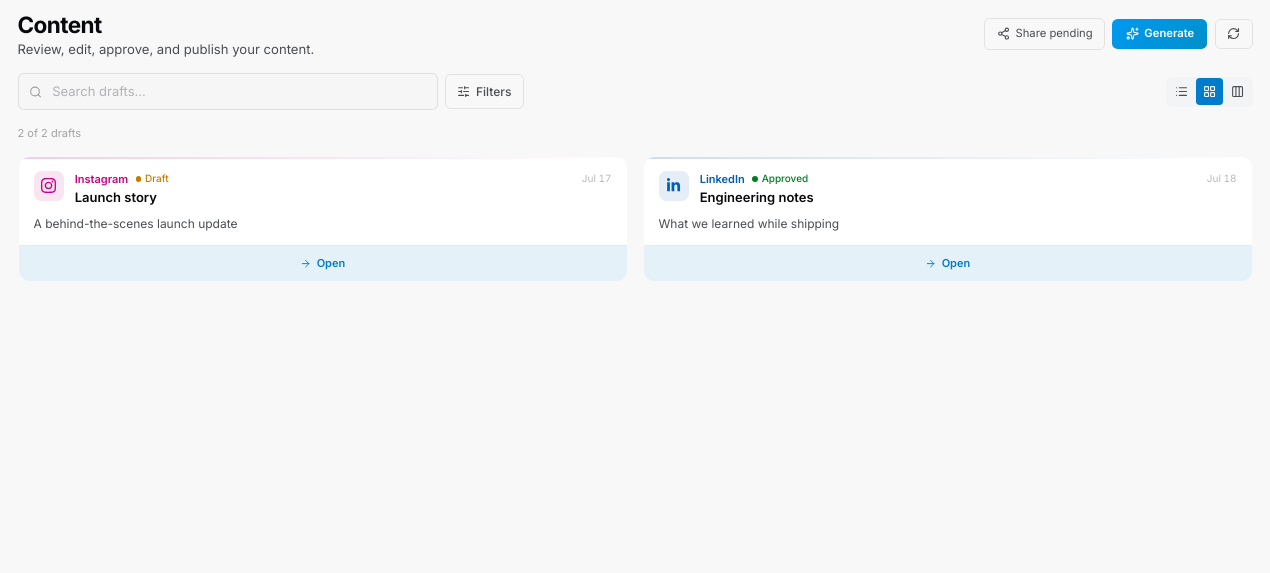
Test case: DraftsPage › loads drafts over HTTP and filters them through accessible controls
Expected: the heading "Launch story" is shown, left=75, top=189, right=157, bottom=205
Expected: the heading "Engineering notes" is shown, left=700, top=189, right=814, bottom=205
Type "engineering" into the search field labelled "Search drafts" at (228, 92), box left=18, top=73, right=438, bottom=110
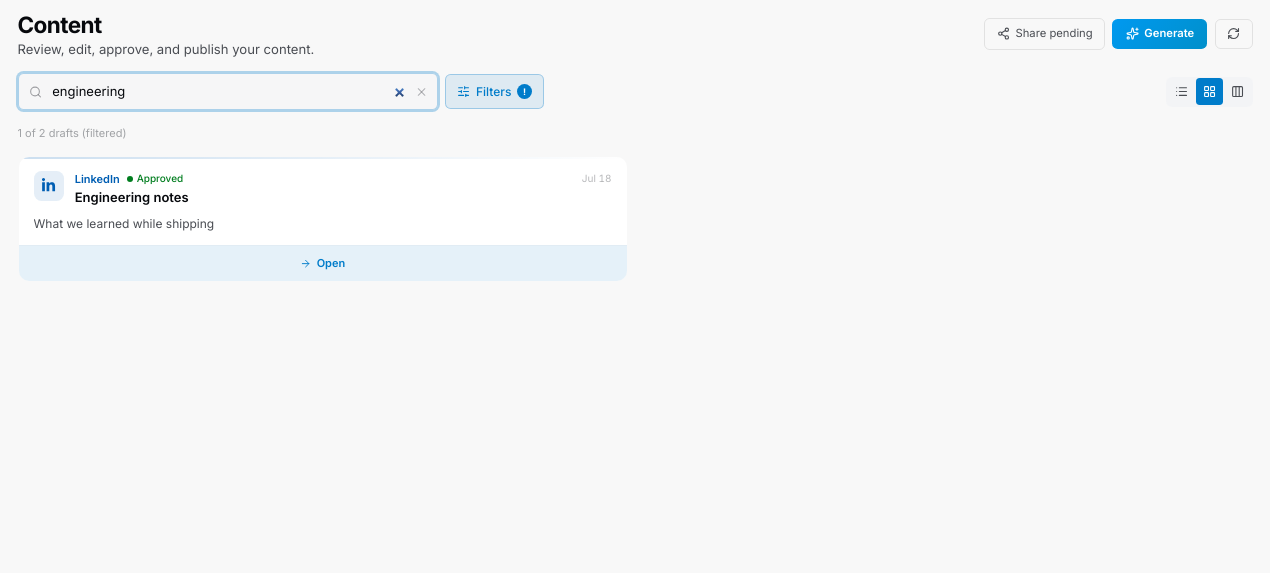
Expected: the heading "Engineering notes" is shown, left=75, top=189, right=189, bottom=205
Expected: the heading "Launch story" is gone
Click the button named "Clear draft search" at (422, 91), box left=415, top=85, right=428, bottom=98
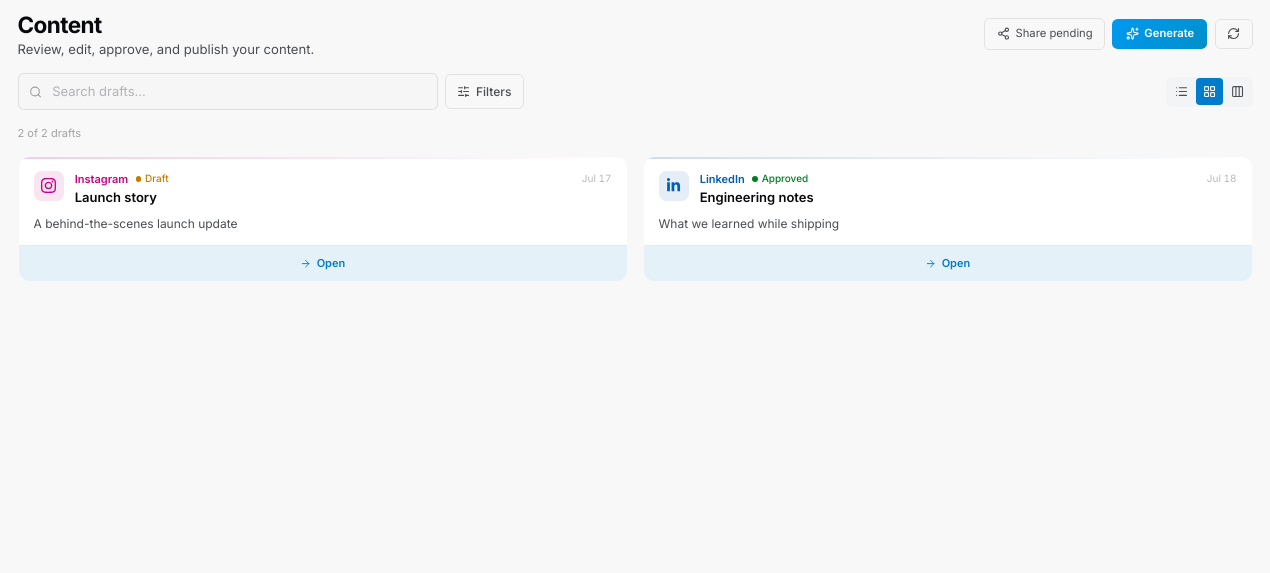
Expected: the heading "Launch story" is shown, left=75, top=189, right=157, bottom=205
Click the button "Filters" at (484, 92), box left=445, top=74, right=524, bottom=109
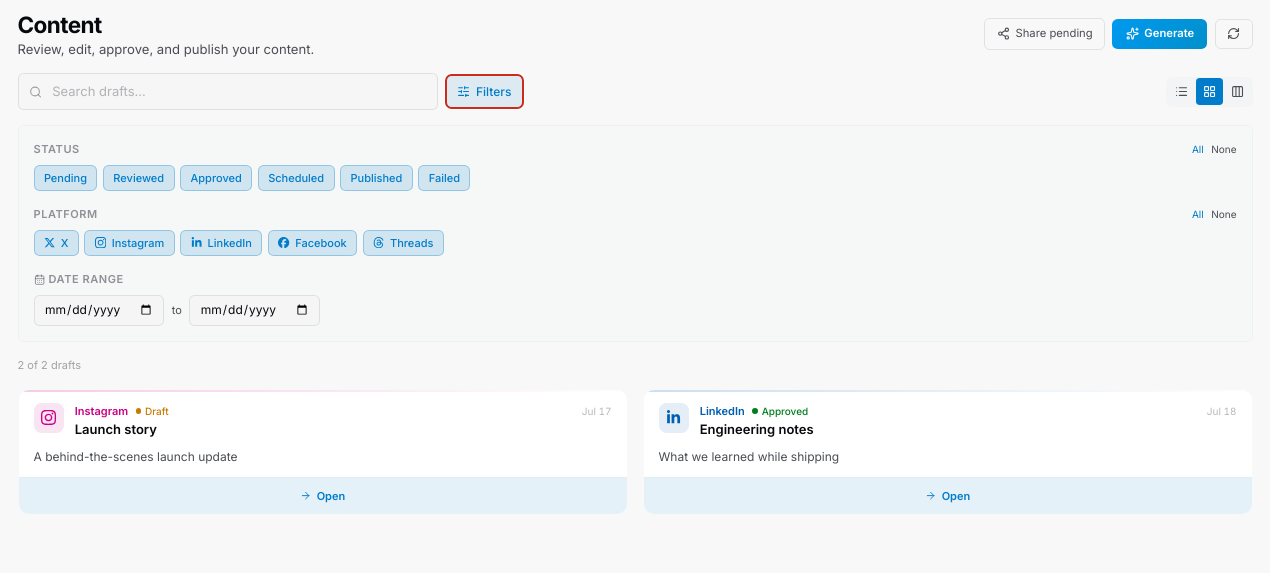
Click the button "Approved" at (216, 178), box left=180, top=165, right=252, bottom=191
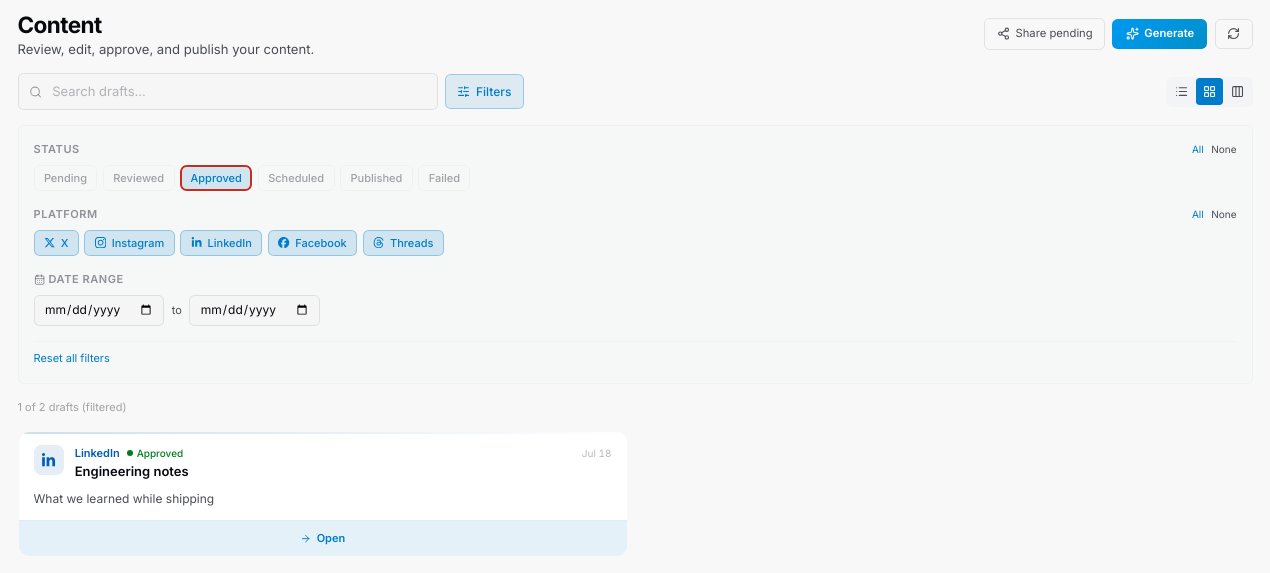
Expected: the heading "Engineering notes" is shown, left=75, top=463, right=189, bottom=479
Expected: the heading "Launch story" is gone
Click the button "Reset all filters" at (72, 358), box left=34, top=350, right=110, bottom=366
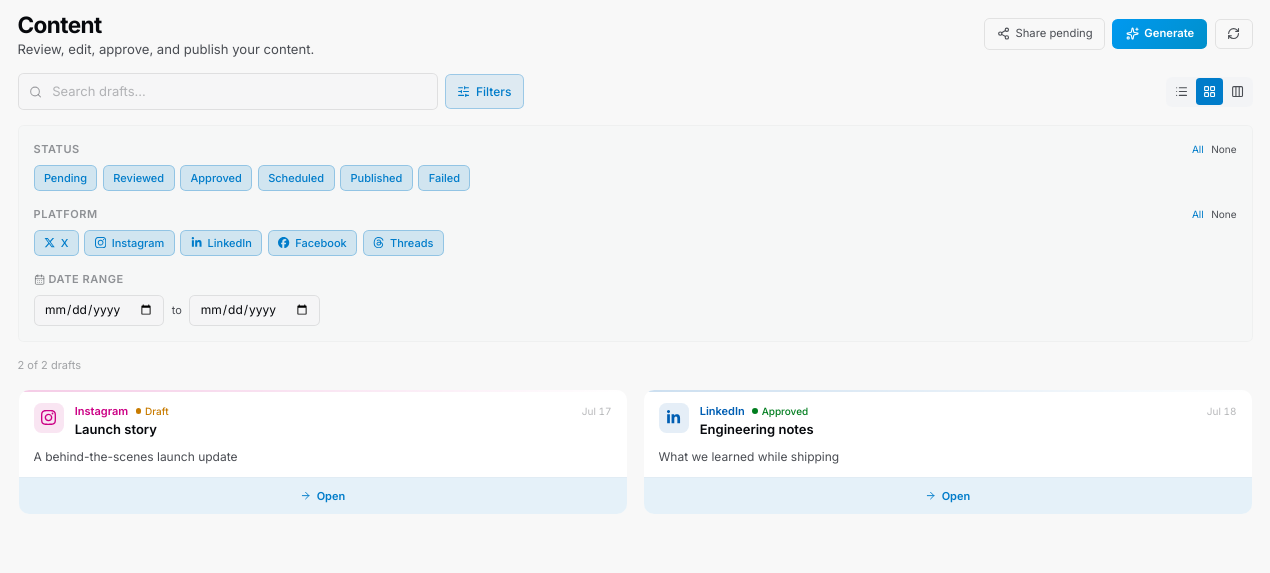
Expected: the heading "Launch story" is shown, left=75, top=421, right=157, bottom=437
Expected: the text "2 of 2 drafts" is shown, left=18, top=358, right=81, bottom=372
